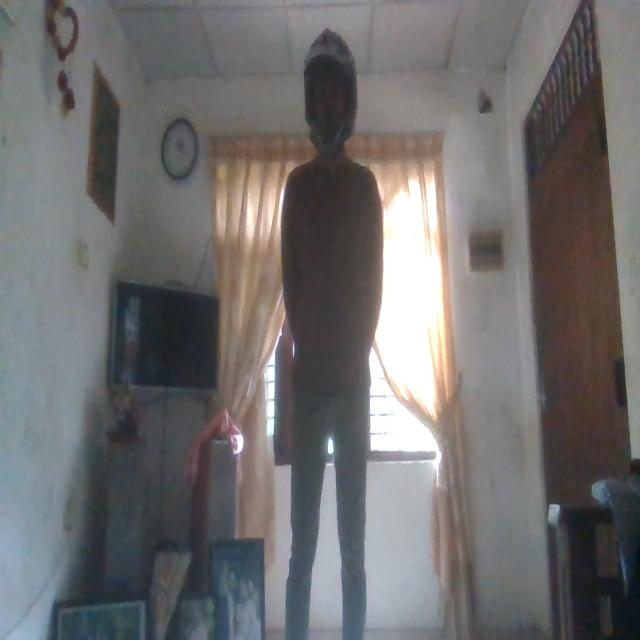Helmet_Wearer: (300, 23, 361, 161)
Person: (278, 21, 380, 638)
